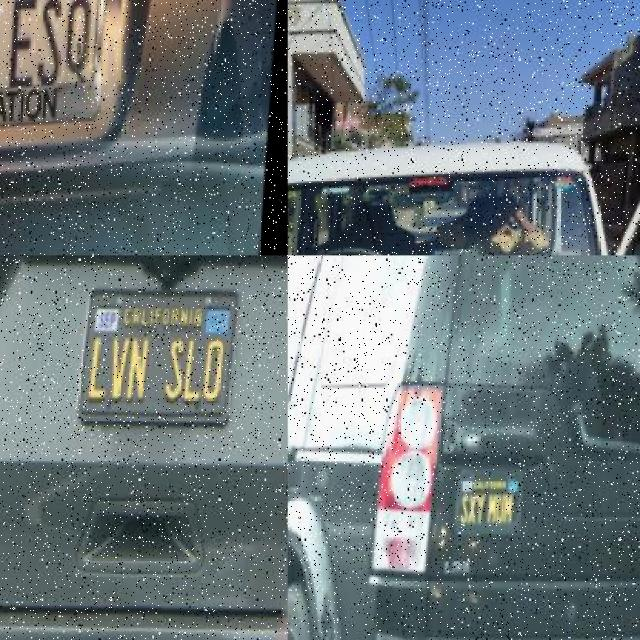licenseplate: (78, 278, 245, 454), (0, 0, 120, 148), (454, 468, 523, 550)
